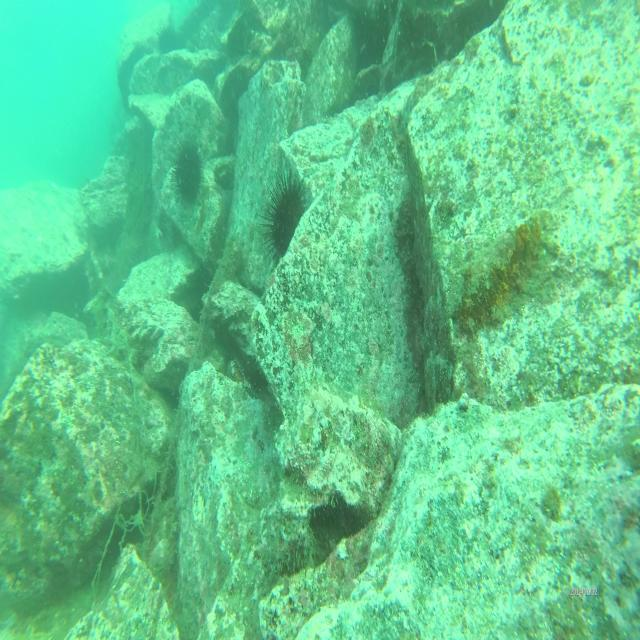echinus: (261, 166, 312, 264), (168, 139, 207, 208), (156, 20, 183, 58)
